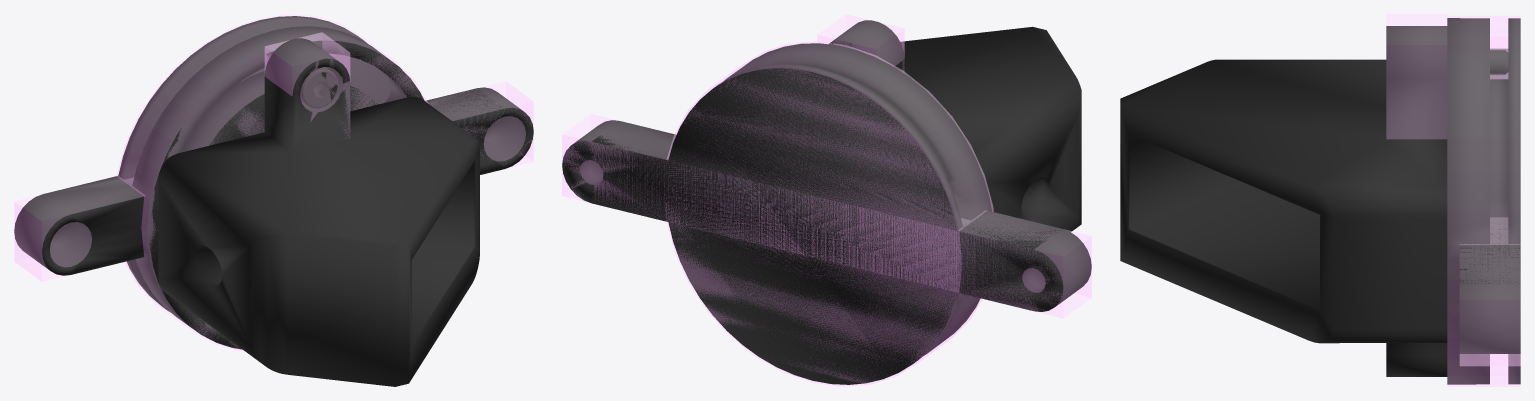
Rendered from sc_mount_visual.glb.
3 views of the same model, side by side, from view 1: azimuth 30°, elevation 25°; view 2: azimuth 150°, elevation 25°; view 3: azimuth 270°, elevation 25° (orthographic). The views are drawn at different scales.
Visible parts, largest first — view 1: ISO 4762 - M2 x 8.003; view 2: ISO 4762 - M2 x 8.003; view 3: ISO 4762 - M2 x 8.003.
Part boxes in pixels (box(x1,y1,x2,y2)): ISO 4762 - M2 x 8.003: box(14, 14, 533, 386); ISO 4762 - M2 x 8.003: box(562, 14, 1091, 386); ISO 4762 - M2 x 8.003: box(1120, 14, 1520, 386).
Bounding box in the file's own units: 0.051 × 0.031 × 0.0327.
